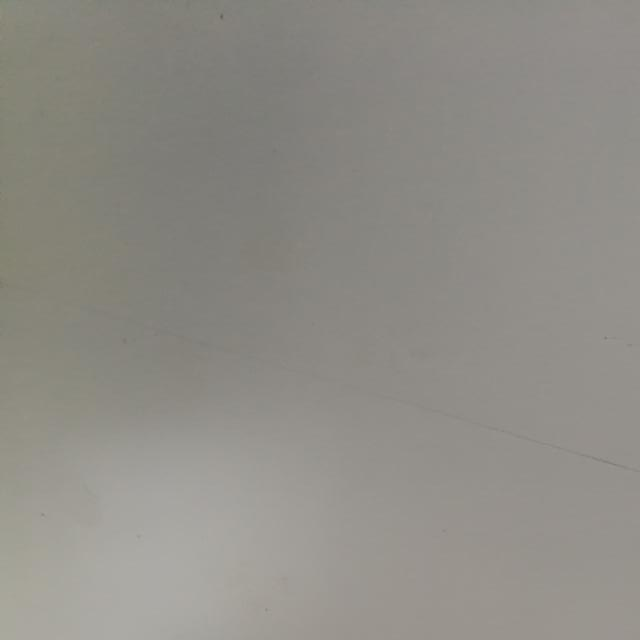fluorescent tube: (613, 332, 640, 640)
